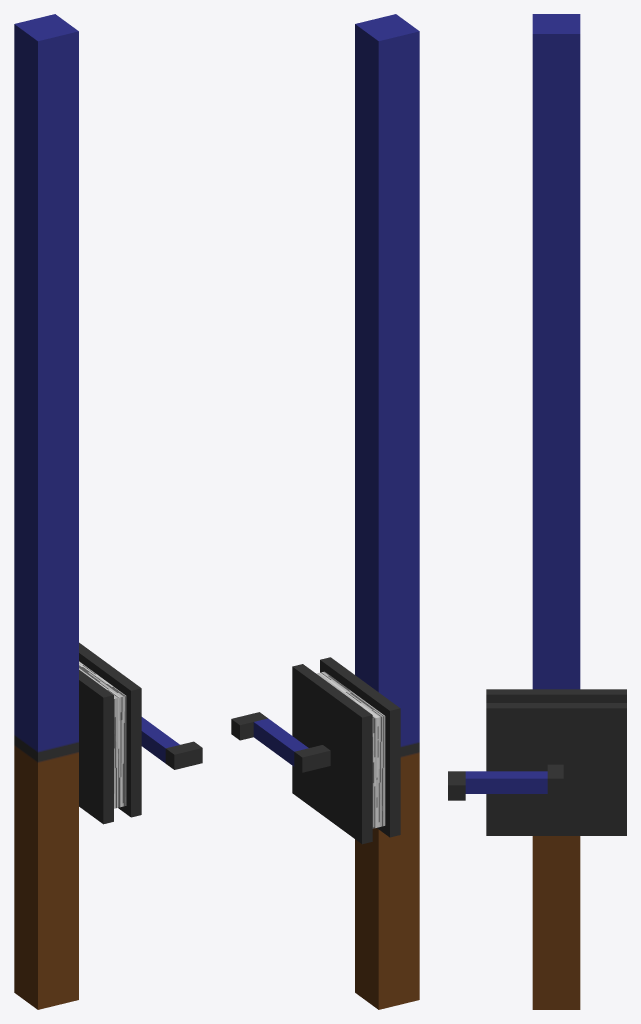
File: Rod.fbx
3 views of the same model, side by side, from view 1: azimuth 30°, elevation 25°; view 2: azimuth 210°, elevation 25°; view 3: azimuth 270°, elevation 25° (orthographic).
Parts seen in each view (by area): view 1: polySurface4; view 2: polySurface4; view 3: polySurface4.
Boxes of the visible parts, x1,y1,x2,y2 form: polySurface4: (14,14,202,1009); polySurface4: (231,14,419,1009); polySurface4: (448,14,626,1009).
Bounding box in the file's own units: 8.33 × 62.83 × 10.44.
